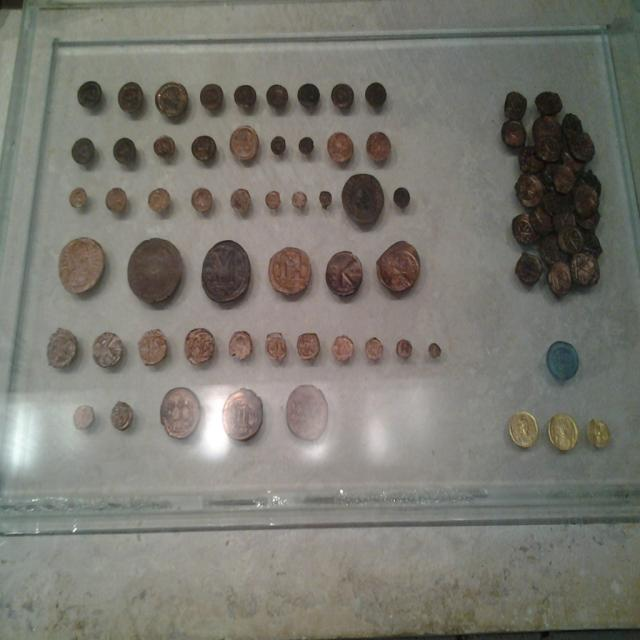Coin: (495, 88, 603, 304), (124, 236, 184, 302), (201, 237, 250, 304), (57, 234, 105, 295), (374, 237, 422, 295), (222, 387, 266, 444), (284, 382, 327, 440), (340, 171, 384, 225), (158, 388, 201, 441), (267, 246, 310, 294), (325, 250, 364, 295), (547, 409, 580, 452), (182, 325, 215, 367), (47, 324, 77, 368), (136, 323, 166, 365), (153, 82, 188, 118), (228, 124, 260, 163), (507, 411, 539, 449), (94, 331, 123, 372), (117, 77, 143, 113), (74, 78, 102, 111), (328, 128, 355, 162), (364, 130, 392, 162), (226, 333, 255, 362), (584, 419, 611, 450), (108, 401, 134, 432), (262, 329, 286, 362), (71, 402, 95, 432), (296, 331, 320, 361), (331, 335, 355, 365), (112, 137, 136, 165), (329, 82, 353, 110), (192, 134, 214, 163), (296, 83, 321, 108), (233, 83, 257, 109), (197, 86, 224, 109), (190, 185, 212, 213), (363, 335, 384, 364), (104, 190, 129, 214), (266, 84, 290, 109), (71, 137, 94, 163), (148, 188, 170, 215), (153, 133, 174, 159), (365, 82, 388, 105), (230, 188, 250, 214), (392, 186, 411, 210), (394, 337, 412, 361), (70, 187, 87, 211), (270, 134, 286, 158), (264, 190, 280, 211), (290, 192, 307, 210), (426, 344, 442, 361), (297, 139, 313, 154), (320, 191, 332, 210)
